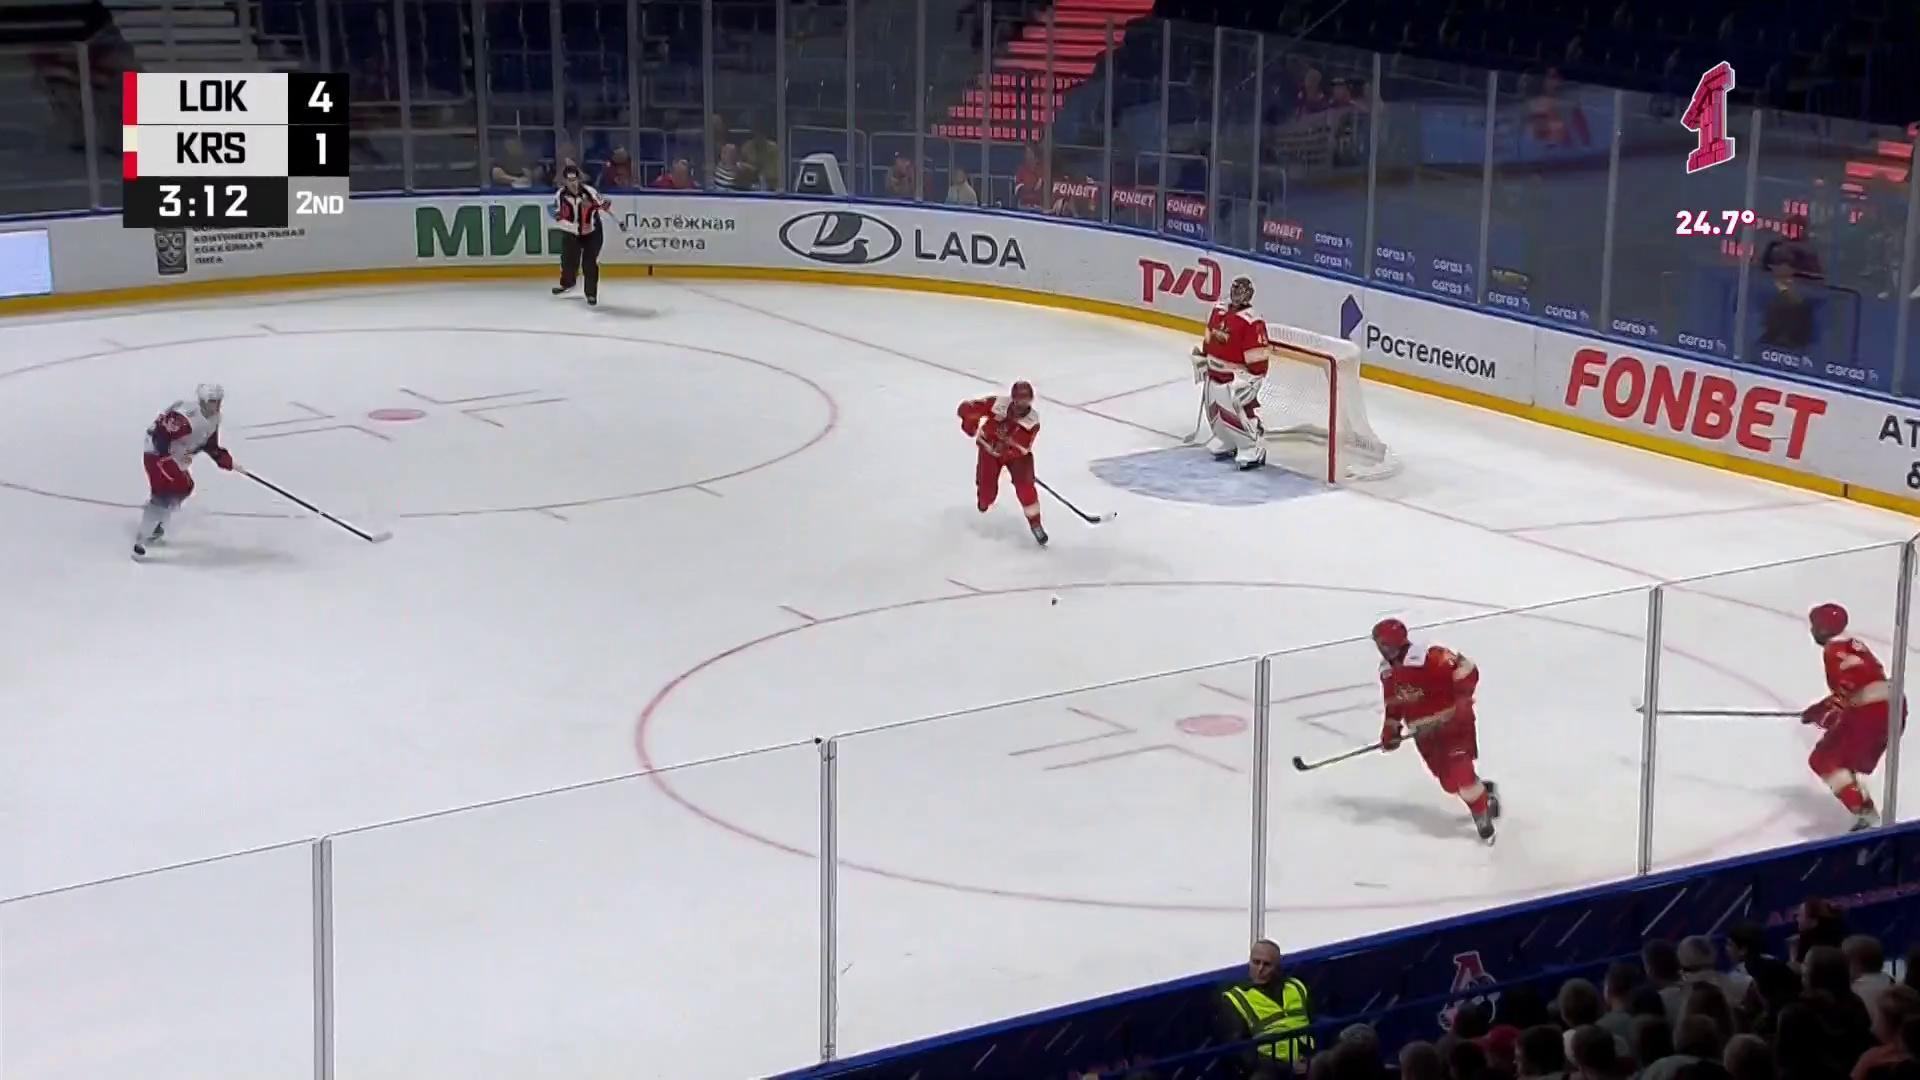ball: (1051, 597, 1060, 606)
